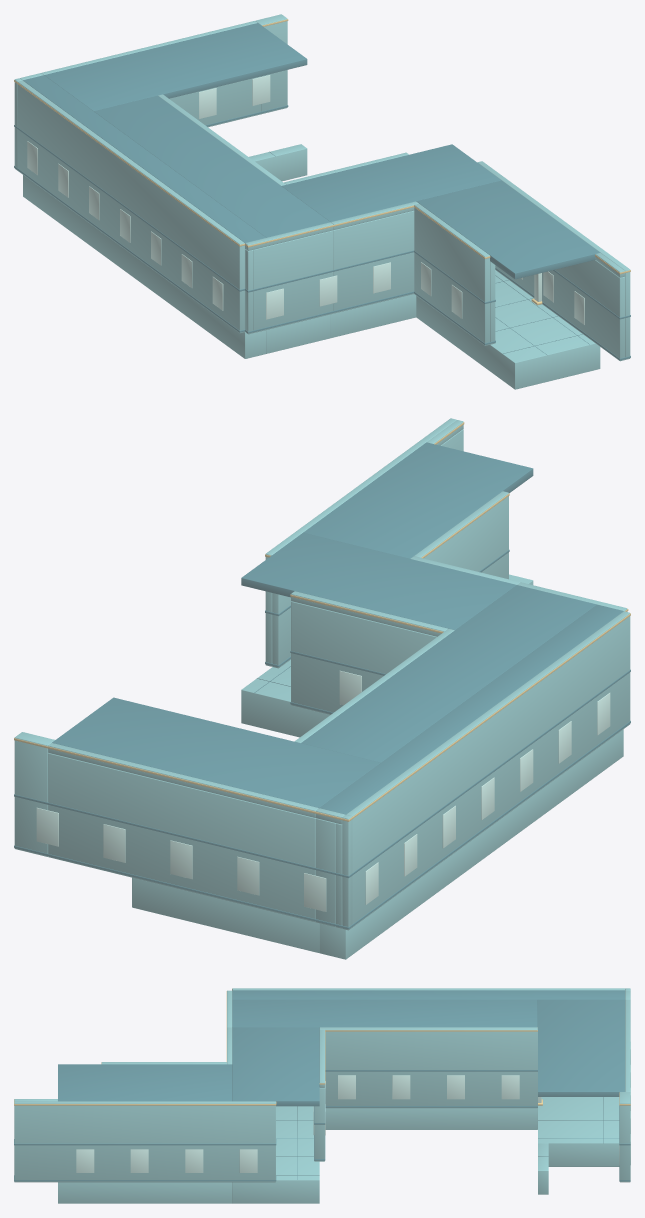
File: atlantis_district_arcade.glb
The picture shows the model from 3 angles, top to bottom: view 1: azimuth 30°, elevation 25°; view 2: azimuth 150°, elevation 25°; view 3: azimuth 270°, elevation 25°; orthographic projection. The views are drawn at different scales.
Parts seen in each view (by area): view 1: atlantis_district_arcade_surface; view 2: atlantis_district_arcade_surface; view 3: atlantis_district_arcade_surface.
Boxes of the visible parts, x1,y1,x2,y2 form: atlantis_district_arcade_surface: [14, 14, 630, 389]; atlantis_district_arcade_surface: [14, 418, 630, 959]; atlantis_district_arcade_surface: [14, 988, 630, 1203].
Size of the model in its own units: 25.08 by 10.4 by 56.57.
